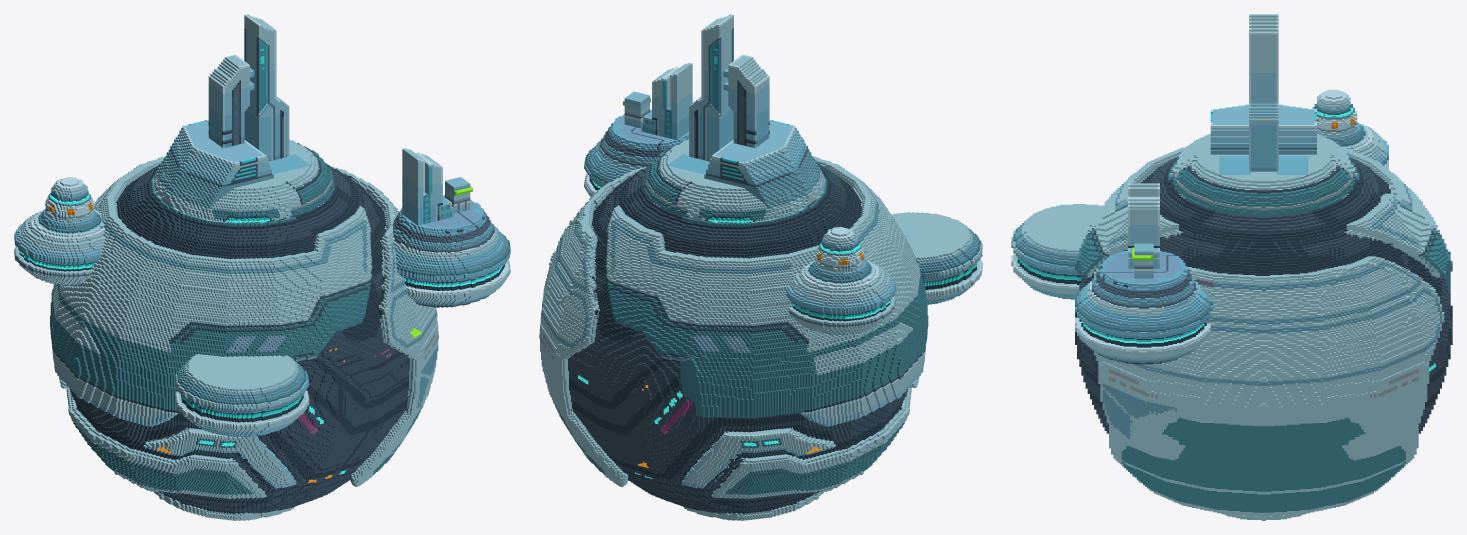
File: 科技星球.glb
The picture shows the model from 3 angles, left to right: view 1: azimuth 30°, elevation 25°; view 2: azimuth 150°, elevation 25°; view 3: azimuth 270°, elevation 25°; orthographic projection. The views are drawn at different scales.
Visible parts, largest first — view 1: 科技星球, 科技星球-发光; view 2: 科技星球, 科技星球-发光; view 3: 科技星球, 科技星球-发光.
Part boxes in pixels (box(x1,y1,x2,y2)): 科技星球: box(14, 14, 510, 520); 科技星球-发光: box(19, 186, 503, 483); 科技星球: box(539, 14, 982, 520); 科技星球-发光: box(578, 100, 919, 478); 科技星球: box(1011, 14, 1452, 520); 科技星球-发光: box(1081, 107, 1435, 371).
Size of the model in its own units: 21.6 by 25.6 by 20.8.
Materials: 2 (2 with a texture image).
